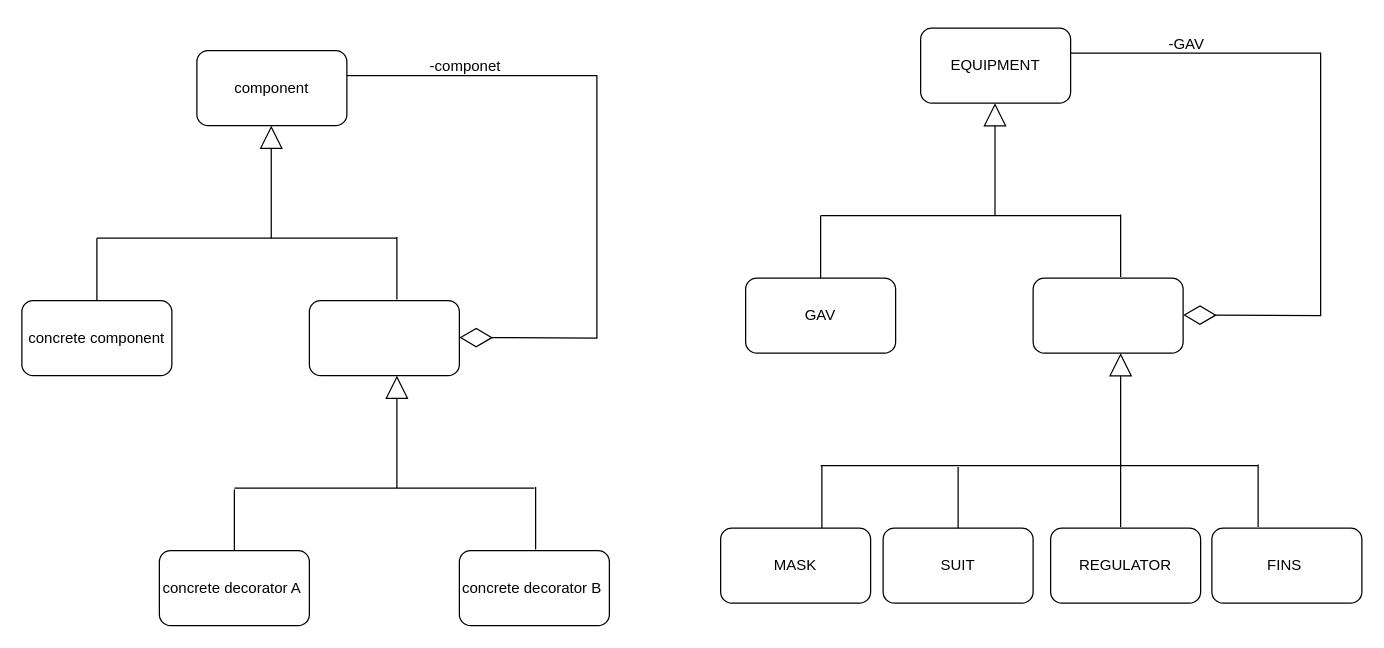
Image size: 1384x648. Some labels were removed from this diagram. The shapes that lost their labels are listed below. From the top down, each one's centre as x and y in pixels, then its label:
the point at 1107,315: EQUIP_DEC
the point at 383,337: decorator
